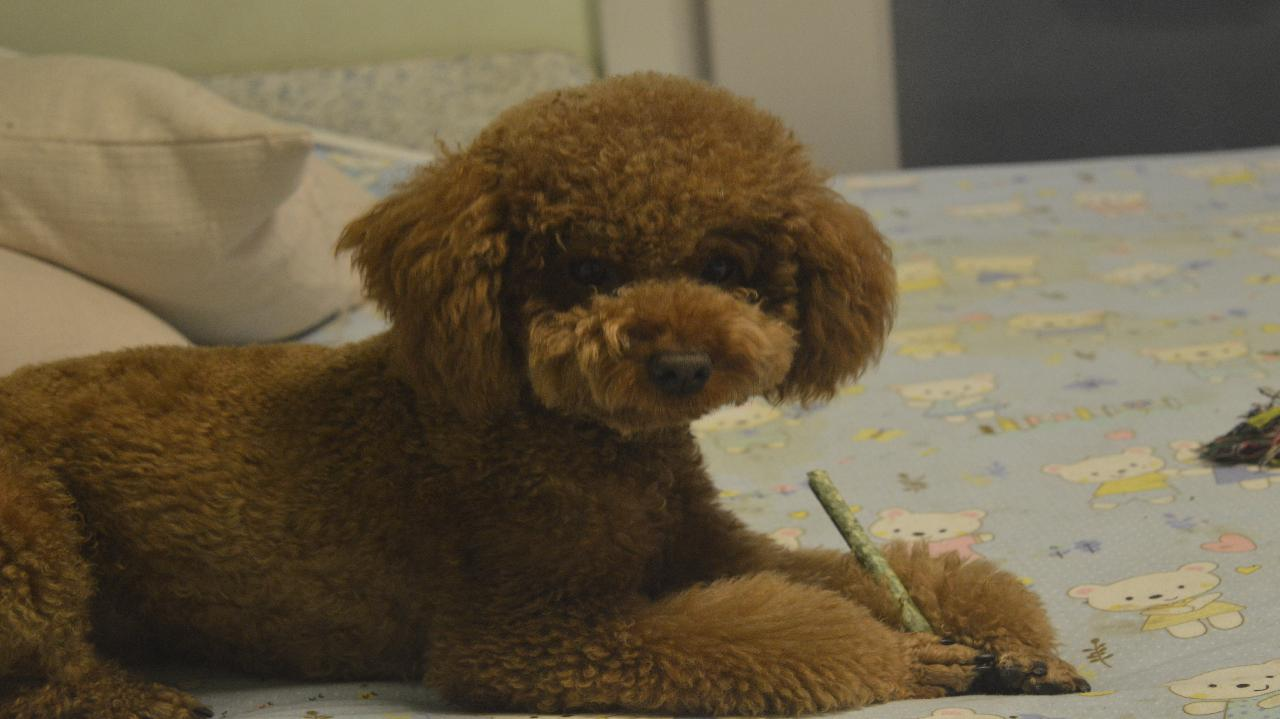zhuangzhuang: (7, 75, 1081, 718)
